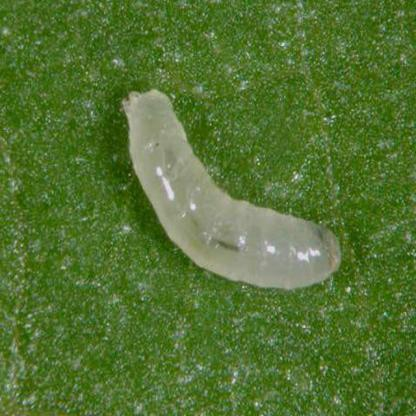whorl-maggot: (117, 79, 344, 297)
